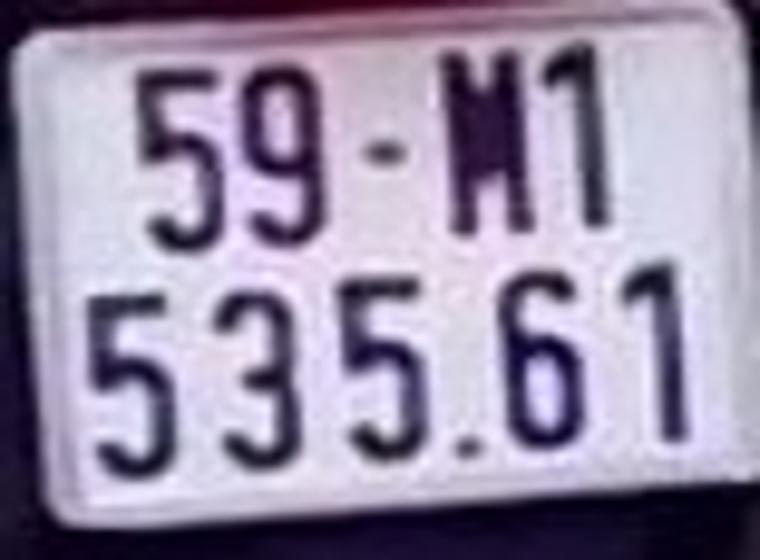-: (363, 139, 402, 166)
.: (458, 437, 476, 455)
1: (621, 261, 693, 448), (543, 42, 613, 227)
3: (213, 291, 301, 468)
5: (83, 295, 178, 476), (335, 275, 426, 463), (135, 71, 225, 247)
6: (495, 270, 583, 449)
9: (238, 62, 326, 245)
M: (431, 44, 537, 237)
